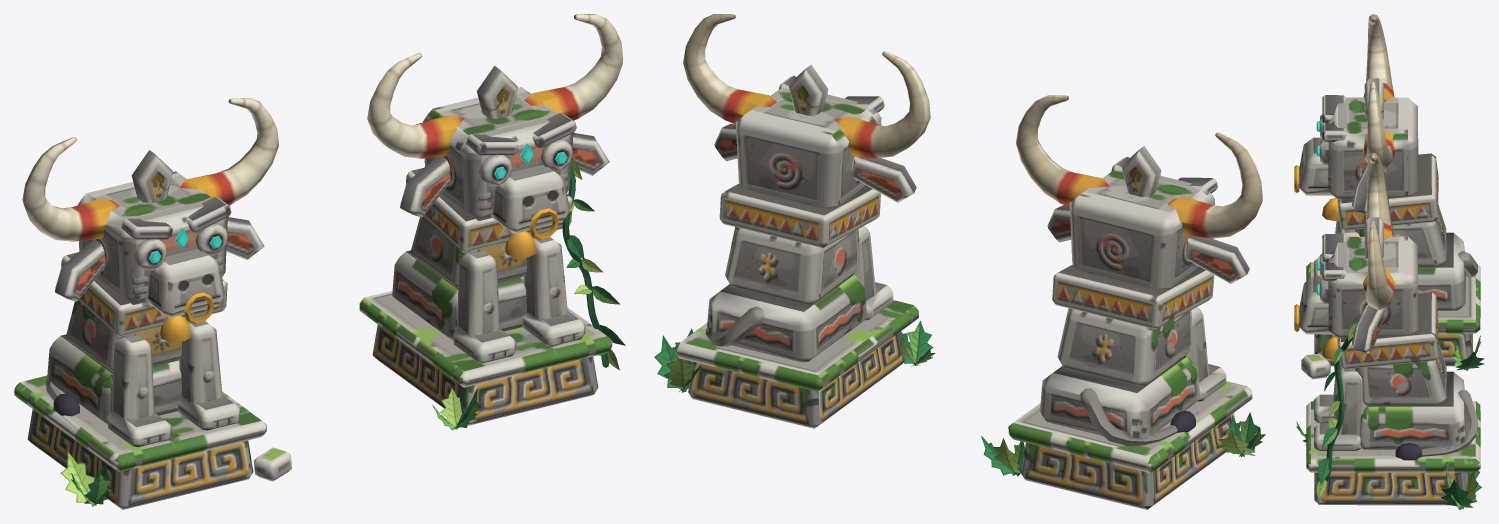
Rendered from gate_guardians.glb.
3 views of the same model, side by side, from view 1: azimuth 30°, elevation 25°; view 2: azimuth 150°, elevation 25°; view 3: azimuth 270°, elevation 25° (orthographic). The views are drawn at different scales.
Parts seen in each view (by area): view 1: gate_guardians, gate_guardians_glow; view 2: gate_guardians; view 3: gate_guardians.
Boxes of the visible parts, left/top/right/bottom form: gate_guardians: left=14, top=14, right=625, bottom=509; gate_guardians_glow: left=149, top=143, right=567, bottom=263; gate_guardians: left=654, top=14, right=1265, bottom=509; gate_guardians: left=1294, top=14, right=1484, bottom=509.
Bounding box in the file's own units: 11.8 × 6.66 × 3.94.
2 materials, 2 textured.
